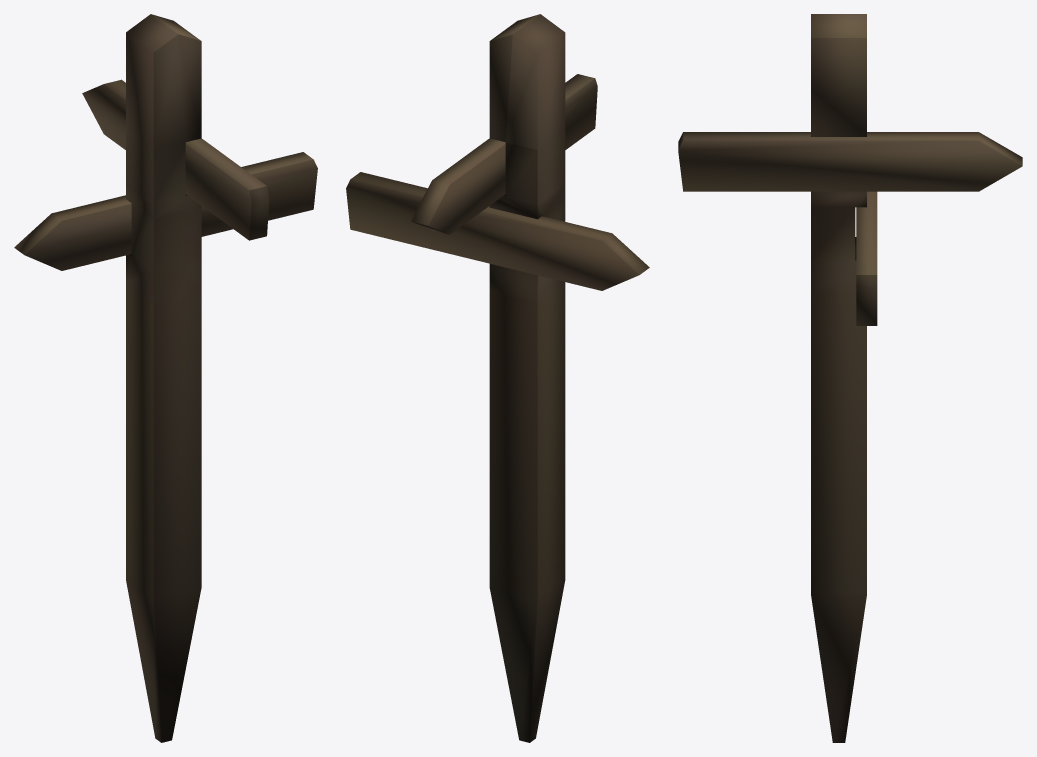
The model's file is furnishings-signs-woodensignpost_v1.glb.
3 renders of one model, left to right at view 1: azimuth 30°, elevation 25°; view 2: azimuth 150°, elevation 25°; view 3: azimuth 270°, elevation 25°, orthographic.
Parts seen in each view (by area): view 1: WoodenSignPost_v1; view 2: WoodenSignPost_v1; view 3: WoodenSignPost_v1.
Part boxes in pixels (bbox=[...]): WoodenSignPost_v1: bbox=[14, 14, 317, 742]; WoodenSignPost_v1: bbox=[346, 14, 649, 742]; WoodenSignPost_v1: bbox=[678, 14, 1022, 742].
Bounding box in the file's own units: 1.39 × 3.23 × 1.39.
